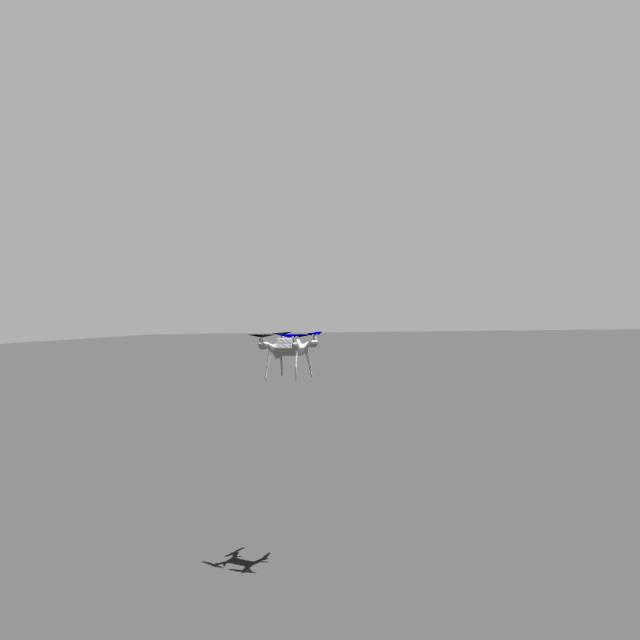Drone: (248, 320, 328, 385)
